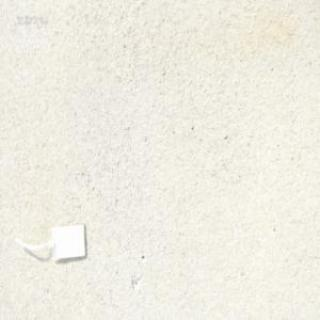LuggageTagtrack_idkeyframe: (12, 220, 88, 265)
